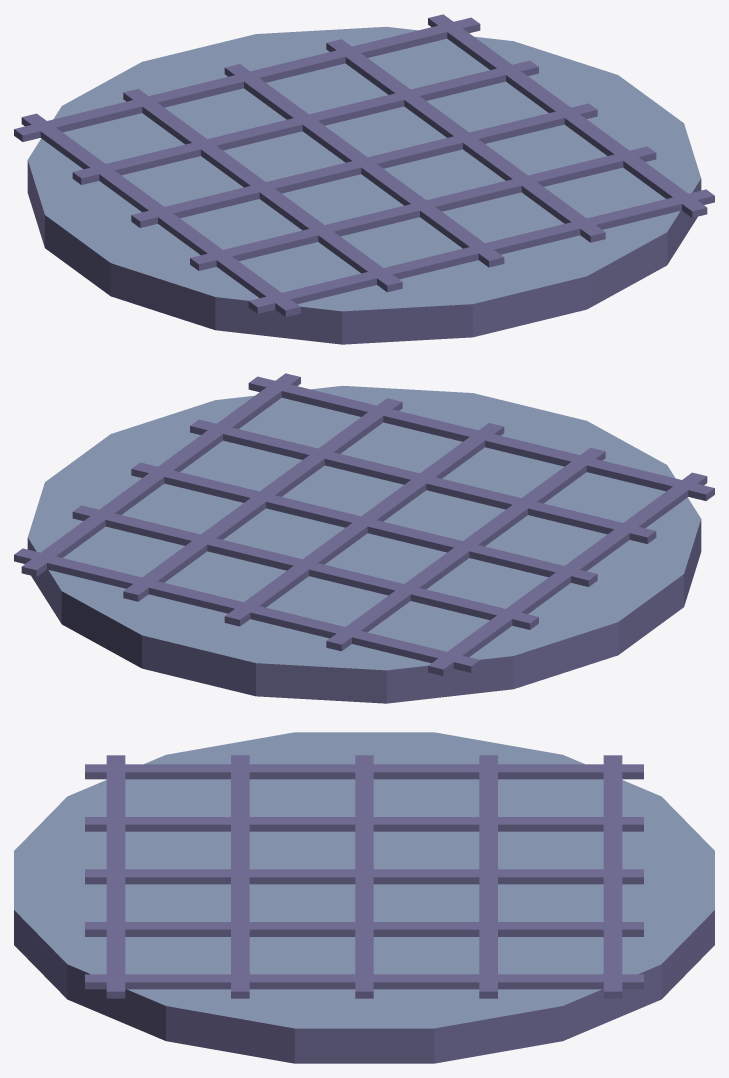
File: silicon_wafer.glb
The picture shows the model from 3 angles, top to bottom: view 1: azimuth 30°, elevation 25°; view 2: azimuth 150°, elevation 25°; view 3: azimuth 270°, elevation 25°; orthographic projection. The views are drawn at different scales.
Parts seen in each view (by area): view 1: silicon_wafer; view 2: silicon_wafer; view 3: silicon_wafer.
Part boxes in pixels (x1=…): silicon_wafer: x1=14, y1=14, x2=714, y2=344; silicon_wafer: x1=14, y1=373, x2=714, y2=703; silicon_wafer: x1=14, y1=732, x2=714, y2=1063.
Size of the model in its own units: 0.9024 by 0.06 by 0.9024.
